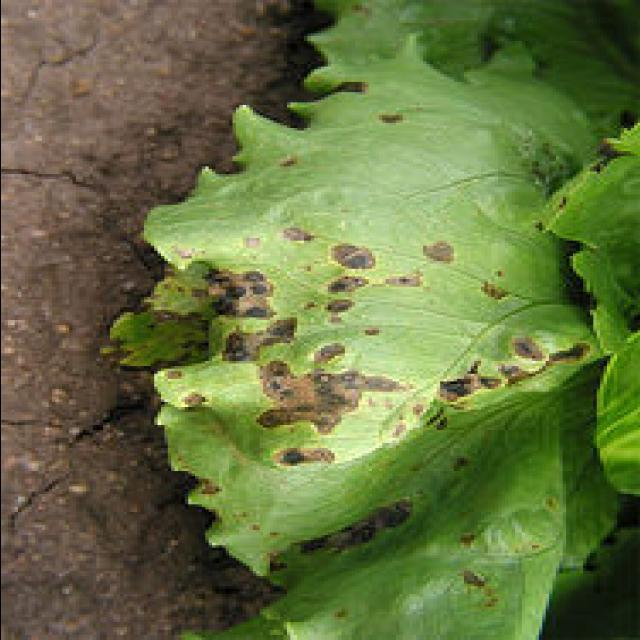Bacterial: (231, 196, 465, 484)
